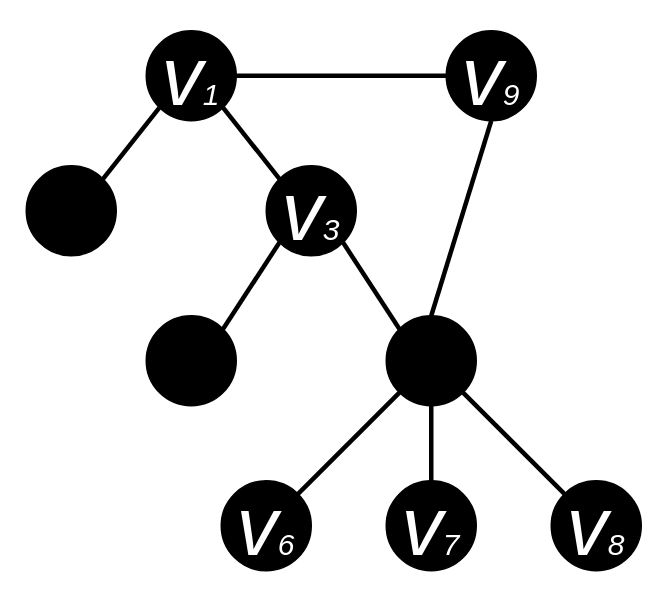
This 668x600 diagram has some shape labels left out. The box of each missing label's shape, as (x1, y1, x2, y2) in pixels:
v 2: (25, 164, 116, 256)
v 4: (145, 314, 236, 406)
v 5: (385, 314, 476, 406)
